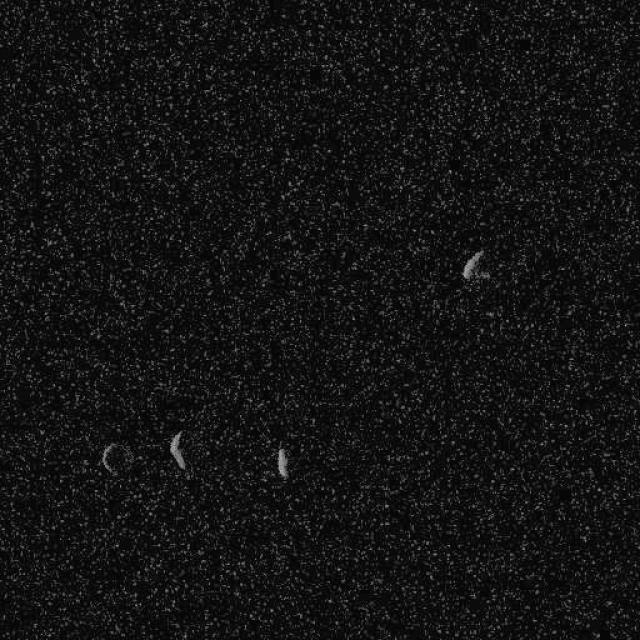D2: (100, 440, 132, 476), (460, 248, 485, 282), (168, 429, 186, 470), (275, 446, 290, 479)
